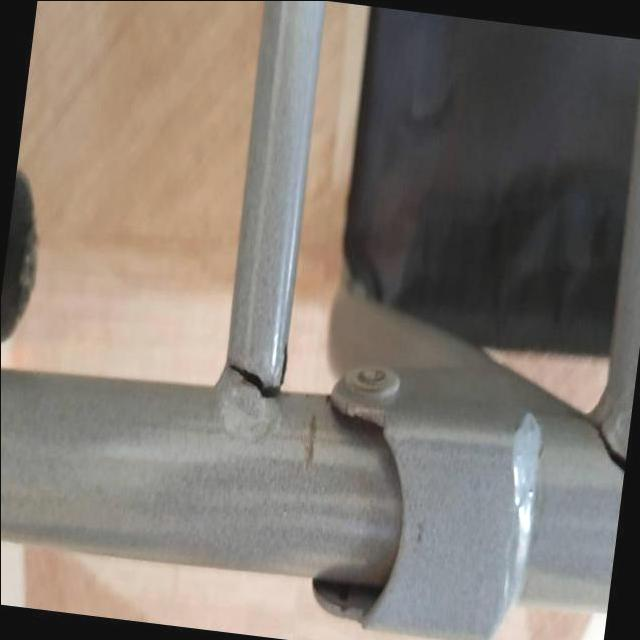defect: (226, 330, 290, 401)
